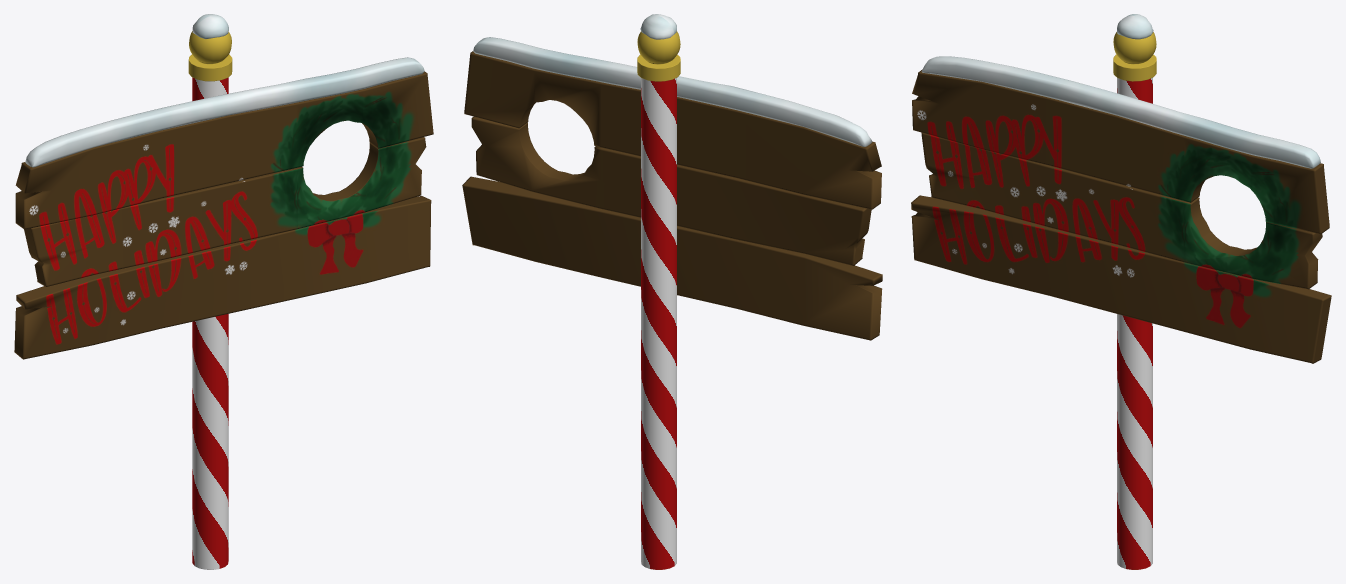
The model's file is sign.glb.
3 views of the same model, side by side, from view 1: azimuth 30°, elevation 25°; view 2: azimuth 150°, elevation 25°; view 3: azimuth 330°, elevation 25° (orthographic).
Parts seen in each view (by area): view 1: board3, board1, board2, signPost, snowSign, signTopper, snowTopper; view 2: board3, board1, board2, signPost, snowSign, signTopper, snowTopper; view 3: board3, board1, board2, signPost, snowSign, signTopper, snowTopper.
Part boxes in pixels (x1,y1,x2,y2): board3: (14, 196, 431, 359); board1: (15, 71, 433, 229); board2: (24, 137, 426, 286); signPost: (192, 77, 228, 569); snowSign: (25, 57, 424, 167); signTopper: (188, 31, 232, 81); snowTopper: (192, 14, 228, 38); board3: (462, 176, 882, 340); board1: (464, 51, 881, 209); board2: (471, 116, 871, 265); signPost: (641, 78, 676, 569); snowSign: (473, 37, 872, 146); signTopper: (637, 31, 680, 81); snowTopper: (640, 14, 676, 39); board3: (911, 195, 1331, 363); board1: (912, 69, 1329, 234); board2: (921, 132, 1322, 289); signPost: (1117, 77, 1152, 569); snowSign: (921, 56, 1320, 168); signTopper: (1113, 32, 1156, 81); snowTopper: (1117, 14, 1153, 39).
Size of the model in its own units: 1.7 by 2.16 by 0.2282.
Materials: 1 (1 with a texture image).
